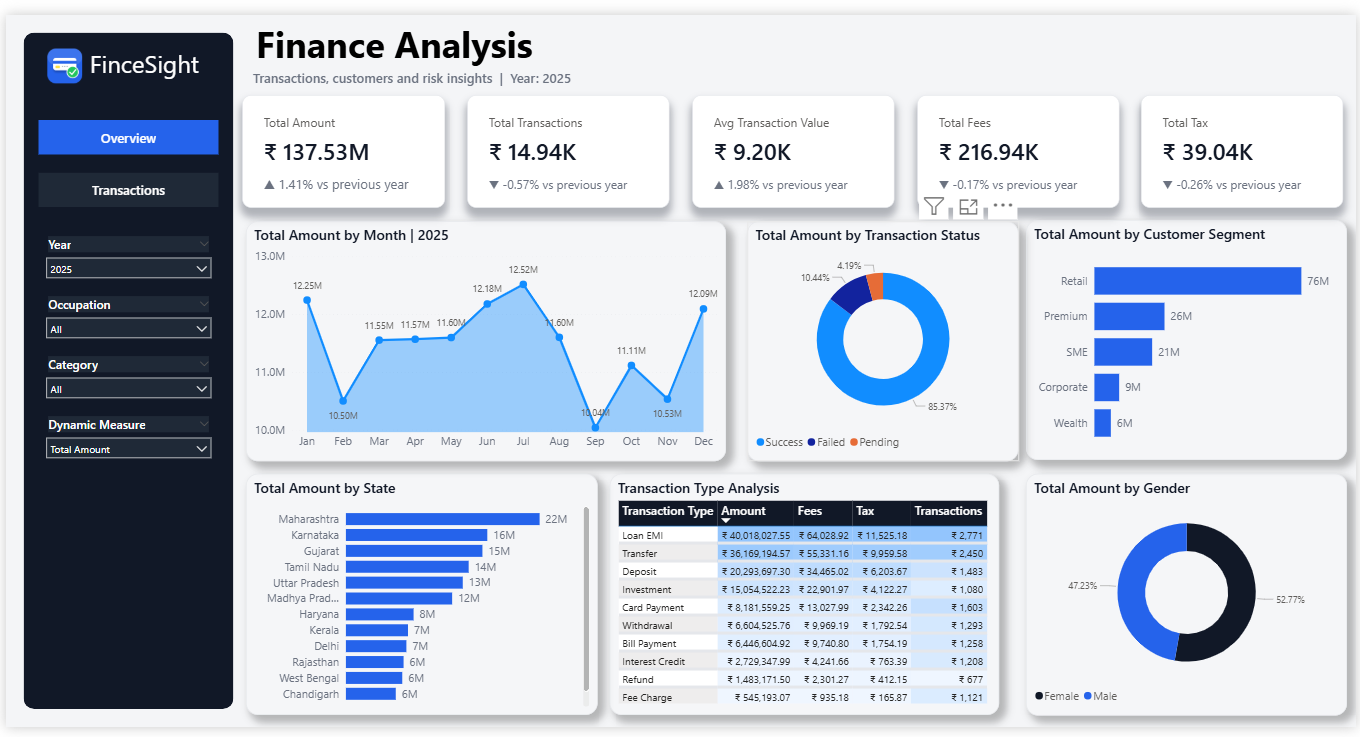

Layout of this report page (visuals, bound fields, positions):
{"tool":"powerbi","page":{"name":"Overview","canvas":[1800,950],"ordinal":0},"visuals":[{"type":"shape","box":[24,24,280,902],"z":0},{"type":"card","fields":{"Values":["Measure.Page Subtitle"]},"box":[91.5,71.7,900.2,28.7],"z":1000},{"type":"cardVisual","fields":{"Data":["Measure.Total Amount"]},"box":[315.4,107.4,270,150],"z":2000},{"type":"slicer","fields":{"Values":["Calender Table.Year"]},"box":[44,290,240,64],"z":3000},{"type":"cardVisual","fields":{"Data":["Measure.Total Transactions"]},"box":[615.5,107.4,269.4,150],"z":4000},{"type":"cardVisual","fields":{"Data":["Measure.Avg Transaction Value"]},"box":[915,107.4,269.4,150],"z":5000},{"type":"cardVisual","fields":{"Data":["Measure.Total Fees"]},"box":[1214.5,107.4,269.4,150],"z":6000},{"type":"cardVisual","fields":{"Data":["Measure.Total Tax"]},"box":[1513.9,107.4,269.4,150],"z":7000},{"type":"textbox","box":[329,0,571.1,126.2],"z":8000},{"type":"image","box":[0,37.5,156.8,59.7],"z":9000},{"type":"textbox","box":[106,38,180,55],"z":10000},{"type":"pageNavigator","box":[44,140,240,116],"z":11000},{"type":"slicer","fields":{"Values":["customers.occupation"]},"box":[44,370,240,64],"z":12000},{"type":"slicer","fields":{"Values":["finance_transactions.merchant_category"]},"box":[44,450,240,64],"z":13000},{"type":"slicer","fields":{"Values":["Measure Selector.Measure Name"]},"box":[44,530,240,64],"z":14000},{"type":"areaChart","fields":{"Category":["Calender Table.Month name"],"Y":["Measure.Selected Measure Value"]},"box":[320,275,640,320],"z":15000},{"type":"donutChart","fields":{"Category":["finance_transactions.transaction_status"],"Y":["Measure.Selected Measure Value"]},"box":[987.6,274.4,361.8,319.9],"z":16000},{"type":"clusteredBarChart","fields":{"Category":["customers.customer_segment"],"Y":["Measure.Selected Measure Value"]},"box":[1360,274,428,320],"z":17000},{"type":"clusteredBarChart","fields":{"Category":["customers.state"],"Y":["Measure.Selected Measure Value"]},"box":[319.9,611.8,468.4,321.6],"z":18000},{"type":"tableEx","title":"Transaction Type Analysis","fields":{"Values":["finance_transactions.transaction_type","Measure.Total Amount","Measure.Total Fees","Measure.Total Tax","Measure.Total Transactions"]},"box":[805.8,611.8,519.1,321.6],"z":19000},{"type":"donutChart","fields":{"Category":["customers.gender"],"Y":["Measure.Selected Measure Value"]},"box":[1360,612,428,322],"z":20000}]}

Visuals, with their boxes in screenshot pixels (x1, y1, x2, y2), scaled from the page's 1800x950 canvas onto the 1360x737 screenshot:
shape: bbox=(18, 19, 230, 718)
card - Measure.Page Subtitle: bbox=(69, 56, 749, 78)
cardVisual - Measure.Total Amount: bbox=(238, 83, 442, 200)
slicer - Calender Table.Year: bbox=(33, 225, 215, 275)
cardVisual - Measure.Total Transactions: bbox=(465, 83, 669, 200)
cardVisual - Measure.Avg Transaction Value: bbox=(691, 83, 895, 200)
cardVisual - Measure.Total Fees: bbox=(918, 83, 1121, 200)
cardVisual - Measure.Total Tax: bbox=(1144, 83, 1347, 200)
textbox: bbox=(249, 0, 680, 98)
image: bbox=(0, 29, 118, 75)
textbox: bbox=(80, 29, 216, 72)
pageNavigator: bbox=(33, 109, 215, 199)
slicer - customers.occupation: bbox=(33, 287, 215, 337)
slicer - finance_transactions.merchant_category: bbox=(33, 349, 215, 399)
slicer - Measure Selector.Measure Name: bbox=(33, 411, 215, 461)
areaChart - Calender Table.Month name x Measure.Selected Measure Value: bbox=(242, 213, 725, 462)
donutChart - finance_transactions.transaction_status x Measure.Selected Measure Value: bbox=(746, 213, 1020, 461)
clusteredBarChart - customers.customer_segment x Measure.Selected Measure Value: bbox=(1028, 213, 1351, 461)
clusteredBarChart - customers.state x Measure.Selected Measure Value: bbox=(242, 475, 596, 724)
"Transaction Type Analysis" tableEx: bbox=(609, 475, 1001, 724)
donutChart - customers.gender x Measure.Selected Measure Value: bbox=(1028, 475, 1351, 725)
